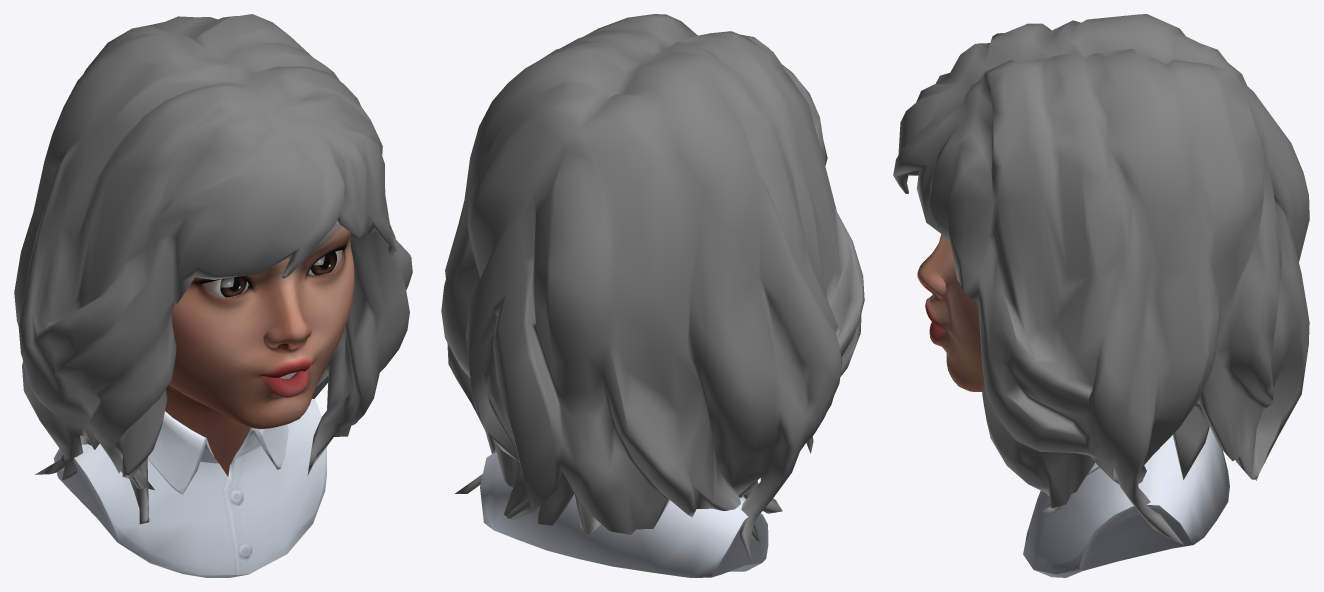
3 views of the same model, side by side, from view 1: azimuth 30°, elevation 25°; view 2: azimuth 150°, elevation 25°; view 3: azimuth 270°, elevation 25° (orthographic). The views are drawn at different scales.
Parts seen in each view (by area): view 1: Wolf3D_Avatar; view 2: Wolf3D_Avatar; view 3: Wolf3D_Avatar.
Part boxes in pixels (left/top/right/bottom): Wolf3D_Avatar: left=14, top=14, right=412, bottom=577; Wolf3D_Avatar: left=441, top=14, right=864, bottom=577; Wolf3D_Avatar: left=893, top=14, right=1309, bottom=577.
Bounding box in the file's own units: 0.2775 × 0.3677 × 0.2652.
